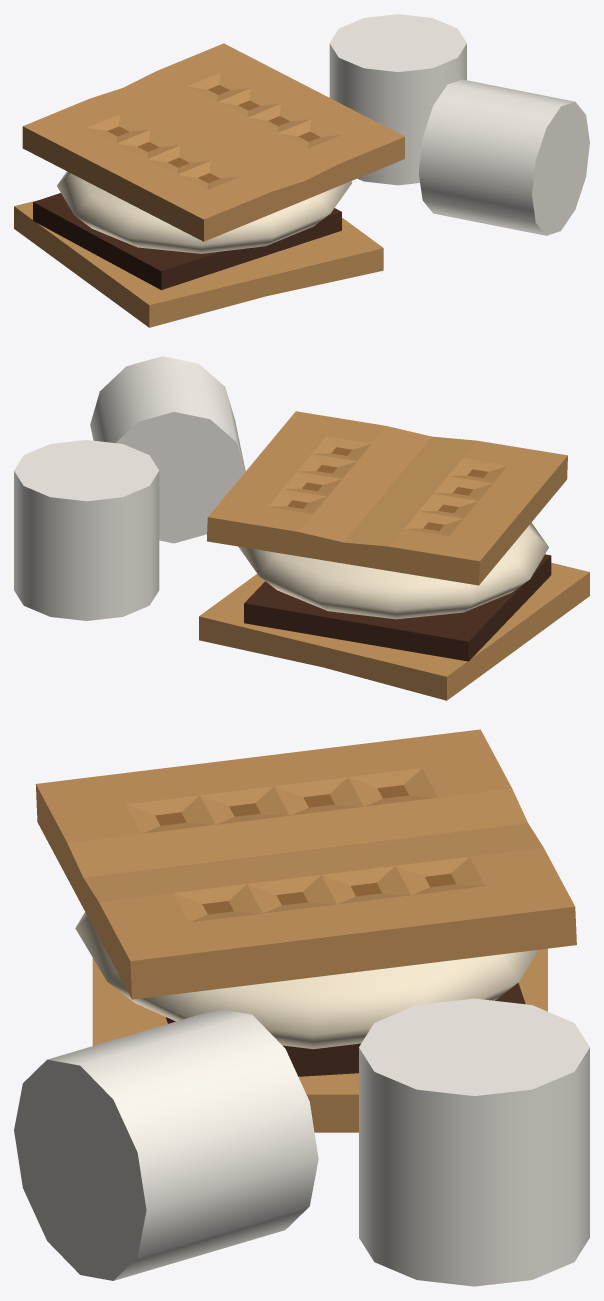
Rendered from smore.glb.
3 views of the same model, one above another, from view 1: azimuth 30°, elevation 25°; view 2: azimuth 150°, elevation 25°; view 3: azimuth 270°, elevation 25° (orthographic). The views are drawn at different scales.
Parts seen in each view (by area): view 1: Smore_CrackerTop, Marshmallow_Lying, Smore_CrackerBottom, Marshmallow_Standing, Smore_Marshmallow, Smore_Chocolate; view 2: Smore_CrackerTop, Marshmallow_Standing, Marshmallow_Lying, Smore_CrackerBottom, Smore_Marshmallow, Smore_Chocolate; view 3: Smore_CrackerTop, Marshmallow_Lying, Marshmallow_Standing, Smore_Marshmallow, Smore_CrackerBottom, Smore_Chocolate.
Boxes of the visible parts, x1,y1,x2,y2 form: Smore_CrackerTop: [22, 43, 404, 241]; Marshmallow_Lying: [418, 79, 589, 235]; Smore_CrackerBottom: [14, 200, 383, 327]; Marshmallow_Standing: [329, 14, 466, 185]; Smore_Marshmallow: [57, 171, 352, 253]; Smore_Chocolate: [33, 193, 341, 290]; Smore_CrackerTop: [207, 411, 567, 585]; Marshmallow_Standing: [14, 440, 159, 620]; Marshmallow_Lying: [90, 356, 245, 543]; Smore_CrackerBottom: [199, 562, 589, 700]; Smore_Marshmallow: [238, 522, 548, 619]; Smore_Chocolate: [244, 554, 551, 661]; Smore_CrackerTop: [35, 729, 576, 999]; Marshmallow_Lying: [14, 1008, 318, 1280]; Marshmallow_Standing: [359, 998, 589, 1286]; Smore_Marshmallow: [75, 912, 538, 1049]; Smore_CrackerBottom: [92, 948, 547, 1132]; Smore_Chocolate: [166, 982, 525, 1076].
Bounding box in the file's own units: 0.1297 × 0.0335 × 0.0823.
